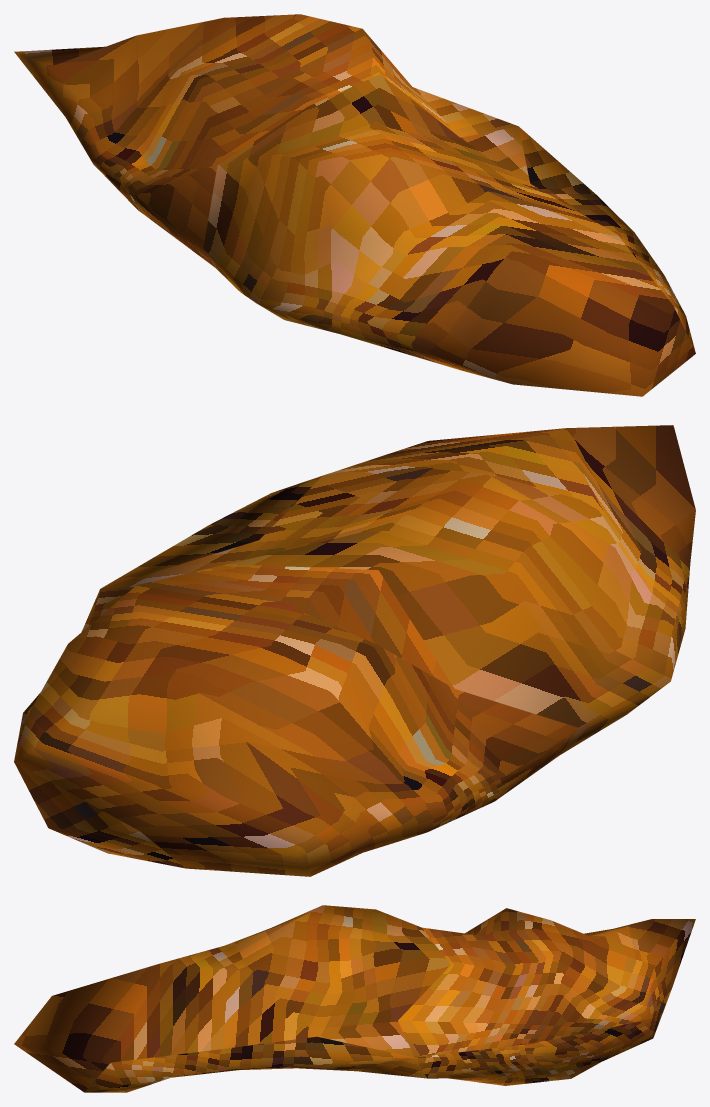
File: D_Feces2.fbx
3 renders of one model, top to bottom at view 1: azimuth 30°, elevation 25°; view 2: azimuth 150°, elevation 25°; view 3: azimuth 270°, elevation 25°, orthographic. The views are drawn at different scales.
Parts seen in each view (by area): view 1: Body.001; view 2: Body.001; view 3: Body.001.
Boxes of the visible parts, box(x1,y1,x2,y2) form: Body.001: box(14, 14, 695, 396); Body.001: box(14, 425, 695, 876); Body.001: box(14, 905, 695, 1092).
Bounding box in the file's own units: 0.2968 × 0.1263 × 0.6648.
